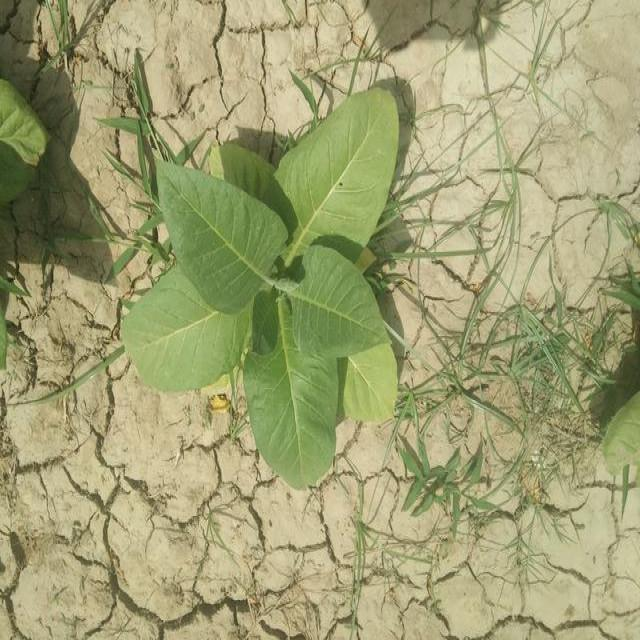crop: (129, 98, 411, 472), (0, 75, 47, 201), (602, 402, 640, 499)
